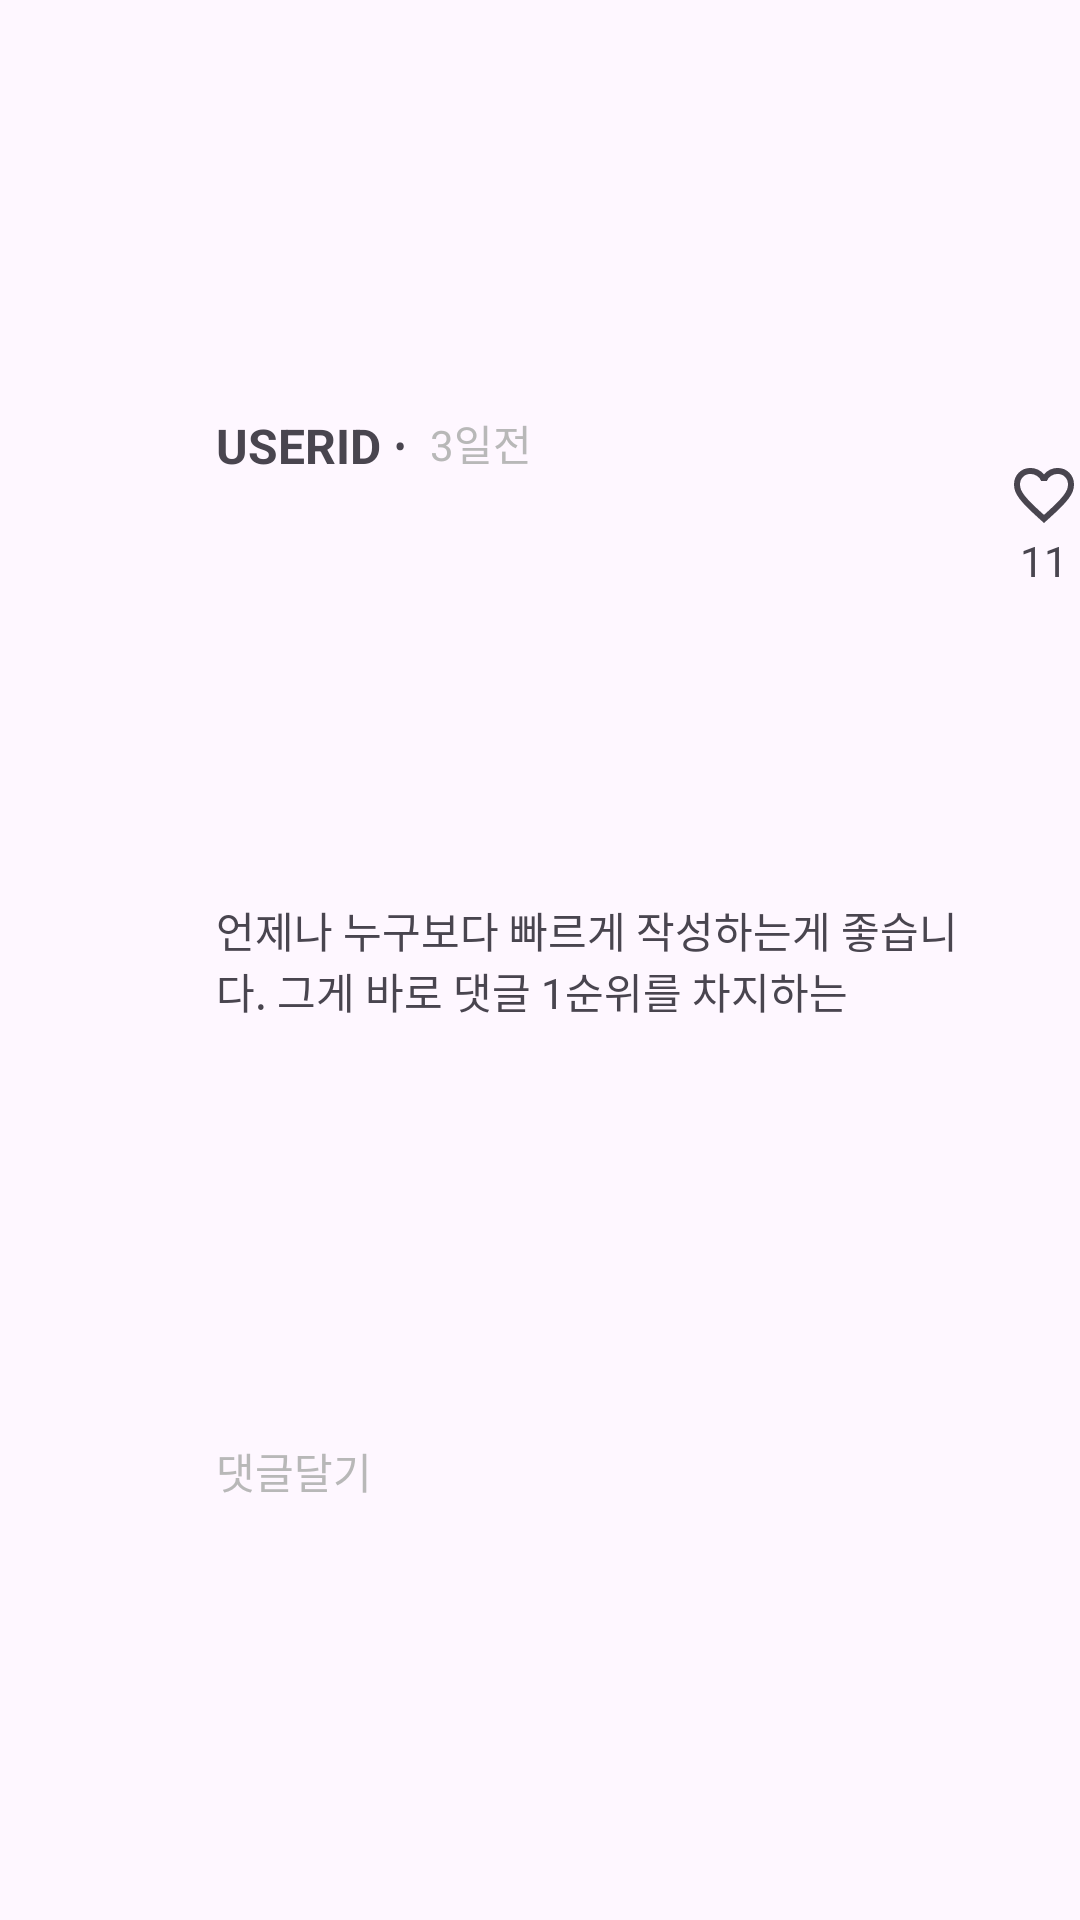

Screen size 1080w x 1920h. Icon name, then its center in pixels as (x=x, y=y):
favorite: (x=1044, y=495)
